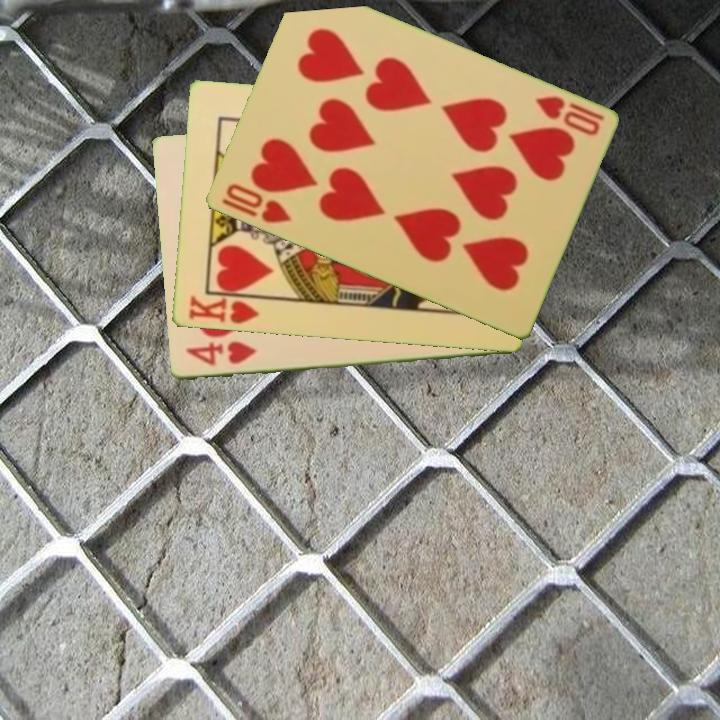10h: (217, 180, 294, 227), (531, 92, 607, 139)
4h: (182, 339, 258, 369)
Kh: (185, 290, 267, 327)
